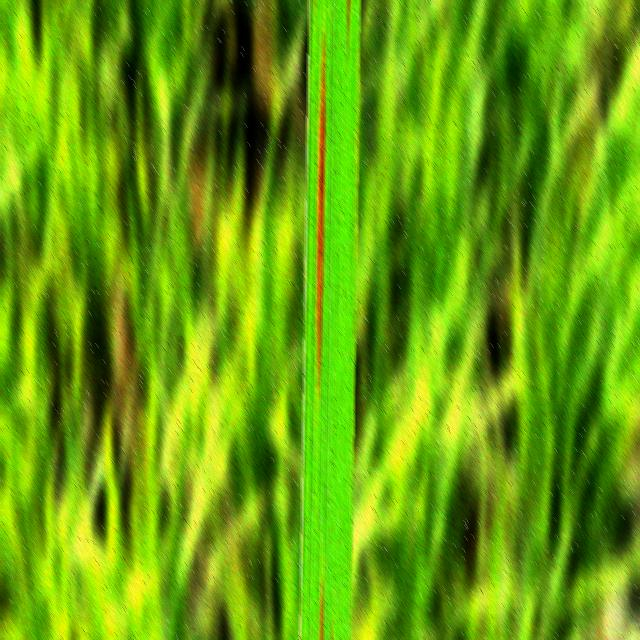NBS: (316, 32, 325, 430), (318, 578, 323, 640), (346, 0, 349, 49), (331, 622, 333, 640)
